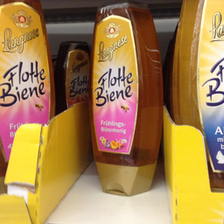honey: (91, 3, 167, 199), (1, 2, 55, 177)
